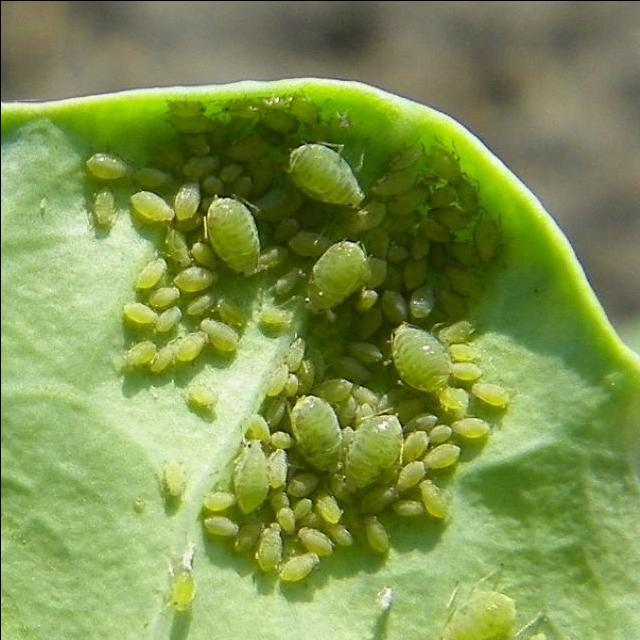aphid: (334, 392, 424, 518), (279, 125, 385, 214), (193, 176, 270, 292), (284, 361, 352, 482), (296, 230, 378, 324), (222, 408, 276, 538), (384, 308, 465, 394)
